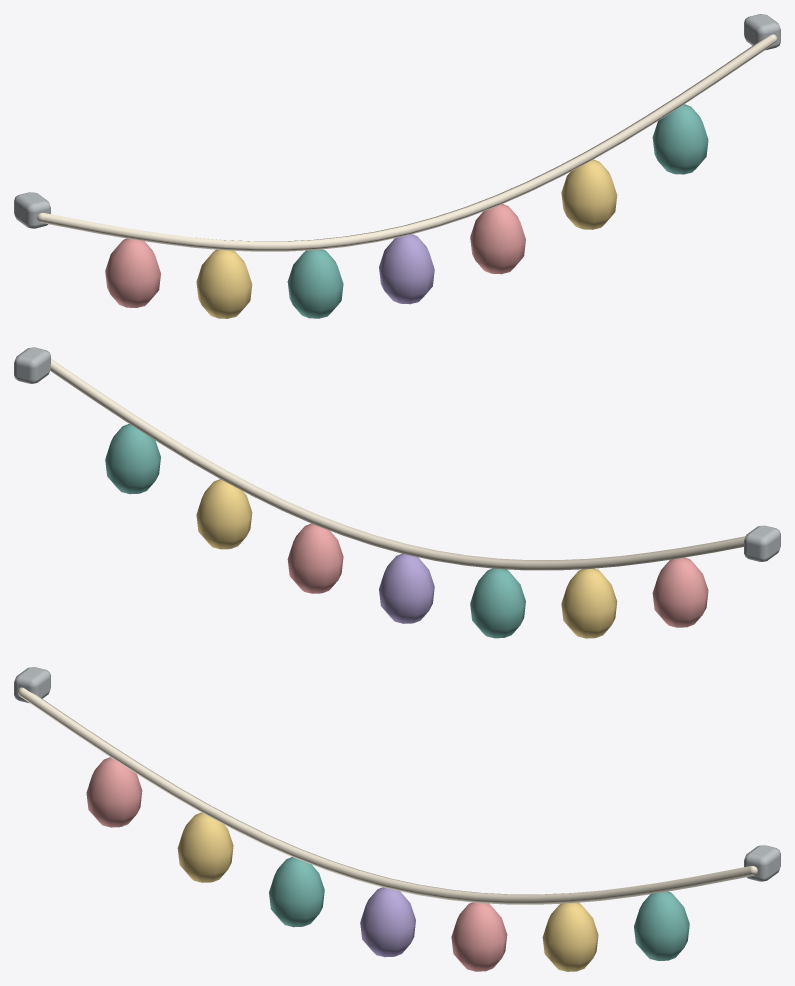
Rendered from egg_light_garland.glb.
3 views of the same model, one above another, from view 1: azimuth 30°, elevation 25°; view 2: azimuth 150°, elevation 25°; view 3: azimuth 330°, elevation 25° (orthographic).
Parts seen in each view (by area): view 1: egg_light_garland_mesh; view 2: egg_light_garland_mesh; view 3: egg_light_garland_mesh.
Boxes of the visible parts, x1,y1,x2,y2 form: egg_light_garland_mesh: [14, 14, 780, 318]; egg_light_garland_mesh: [14, 347, 780, 638]; egg_light_garland_mesh: [14, 667, 780, 971].
Bounding box in the file's own units: 0.93 × 0.22 × 0.0685.
